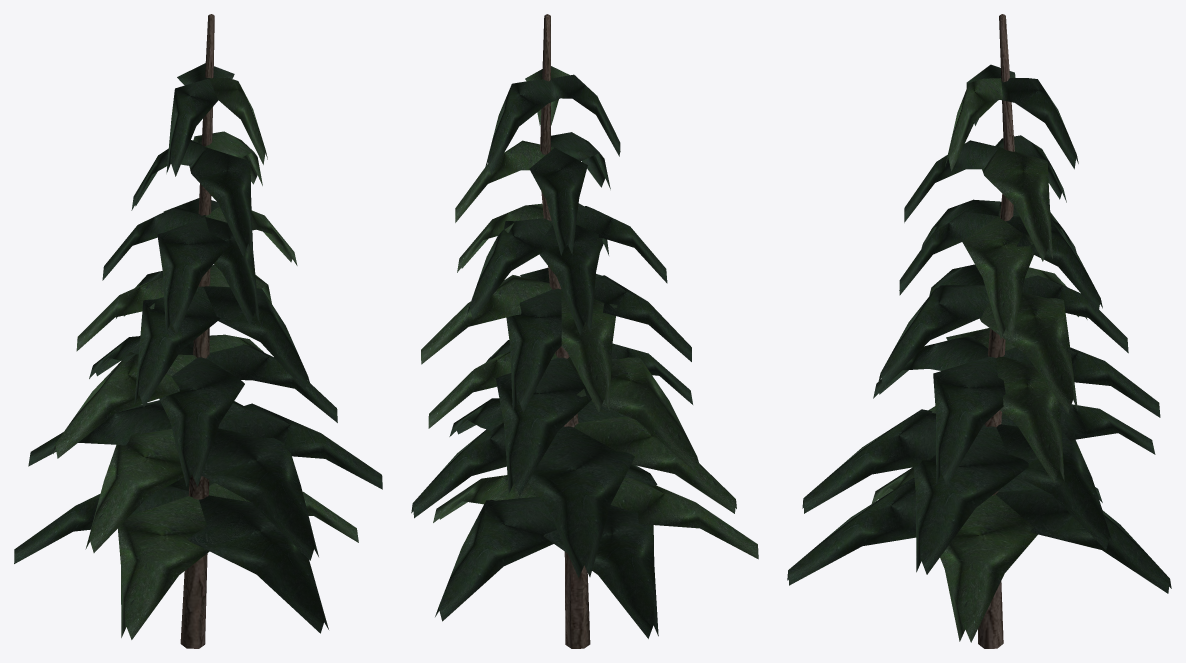
The model's file is kf_bough_markers.glb.
3 renders of one model, left to right at view 1: azimuth 30°, elevation 25°; view 2: azimuth 150°, elevation 25°; view 3: azimuth 270°, elevation 25°, orthographic. The views are drawn at different scales.
Visible parts, largest first — view 1: kf_bough_markers; view 2: kf_bough_markers; view 3: kf_bough_markers.
Part boxes in pixels (x1,y1,x2,y2): kf_bough_markers: [14, 14, 382, 648]; kf_bough_markers: [411, 14, 758, 648]; kf_bough_markers: [787, 14, 1171, 648].
Size of the model in its own units: 0.5965 by 1.22 by 0.6641.
Materials: 1 (1 with a texture image).
